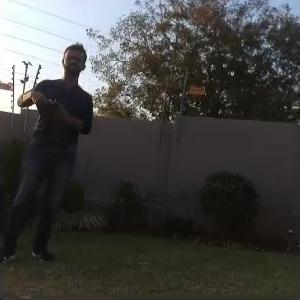follow: (0, 32, 99, 266)
